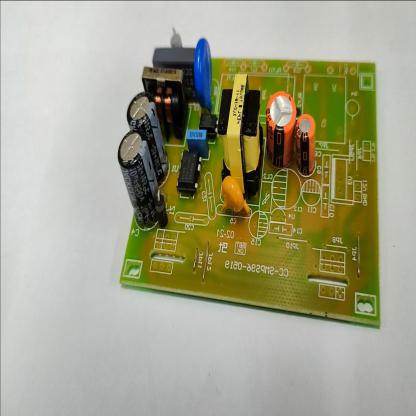Cap1: (265, 88, 295, 172)
Cap2: (295, 110, 317, 178)
Cap3: (126, 88, 152, 132)
Cap4: (115, 132, 155, 230)
MOSFET: (174, 148, 203, 197)
Mov: (193, 37, 214, 112)
Resistor: (168, 25, 182, 49)
Transformer: (219, 67, 260, 195), (155, 69, 188, 136)
